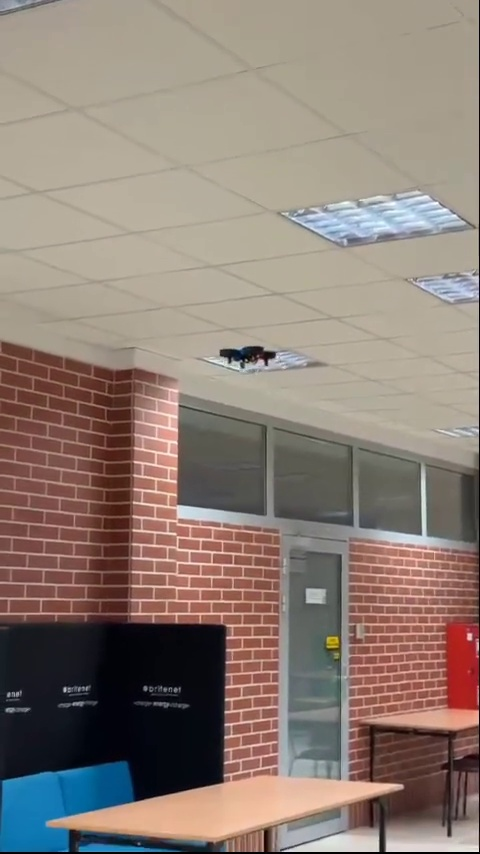drone: (217, 342, 279, 368)
